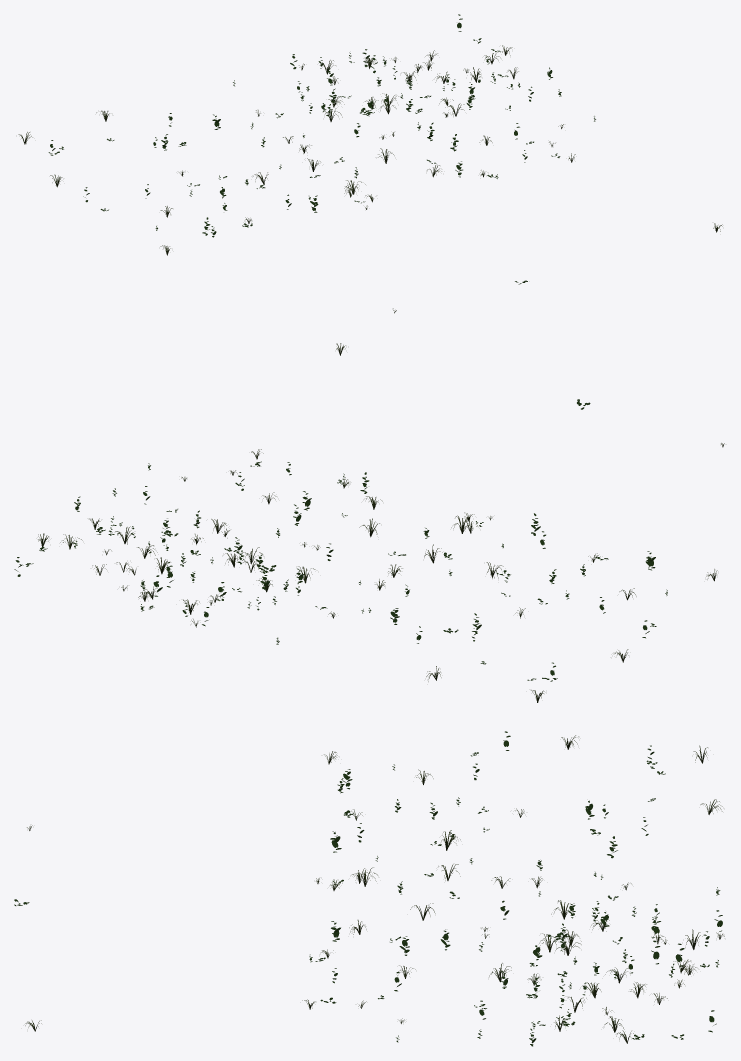
Rendered from weeds_-01-02_foliage.dae.
3 renders of one model, top to bottom at view 1: azimuth 30°, elevation 25°; view 2: azimuth 150°, elevation 25°; view 3: azimuth 270°, elevation 25°, orthographic. The views are drawn at different scales.
Parts seen in each view (by area): view 1: weeds_-01-02_foliage; view 2: weeds_-01-02_foliage; view 3: weeds_-01-02_foliage.
Boxes of the visible parts, x1=… form: weeds_-01-02_foliage: x1=18, y1=14, x2=722, y2=313; weeds_-01-02_foliage: x1=14, y1=343, x2=724, y2=702; weeds_-01-02_foliage: x1=14, y1=731, x2=724, y2=1046.
Bounding box in the file's own units: 10.13 × 10.07 × 0.4925.
